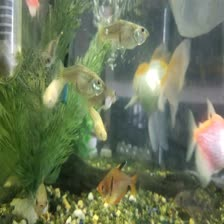Cuezo: (124, 38, 198, 121)
Guppy: (55, 55, 106, 100), (94, 11, 151, 45), (35, 26, 63, 69), (83, 102, 110, 143)
Plano: (182, 97, 223, 180)
Transparente: (90, 161, 147, 206)
